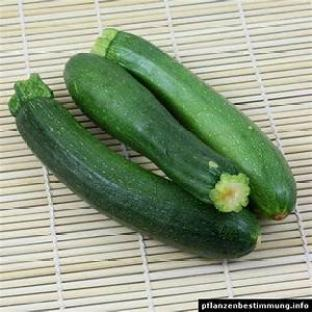Zucchini: (10, 75, 258, 257), (93, 30, 296, 219), (65, 54, 249, 212)
